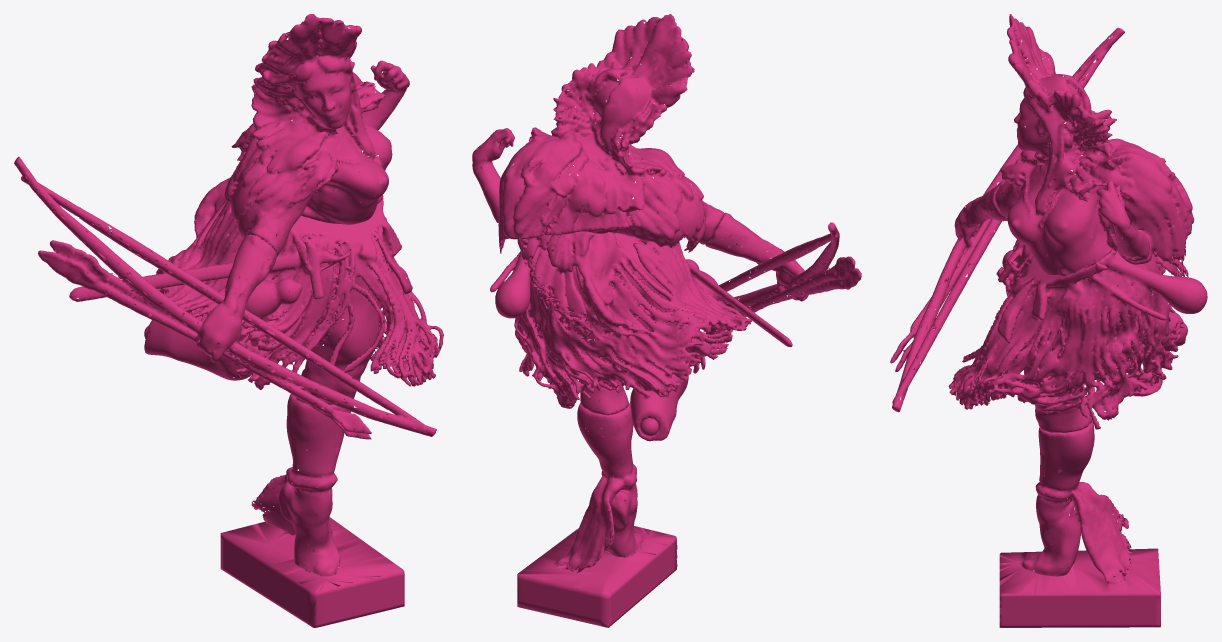
Rendered from clara-camarao.glb.
3 renders of one model, left to right at view 1: azimuth 30°, elevation 25°; view 2: azimuth 150°, elevation 25°; view 3: azimuth 270°, elevation 25°, orthographic. The views are drawn at different scales.
Parts seen in each view (by area): view 1: saia, tronco, pe-clara, mao-esquerda, braco-direito; view 2: saia, tronco, pe-clara, mao-esquerda, braco-direito; view 3: saia, tronco, pe-clara, mao-esquerda, braco-direito.
Boxes of the visible parts, left/top/right/bottom form: saia: left=69, top=147, right=443, bottom=404; tronco: left=224, top=14, right=392, bottom=256; pe-clara: left=220, top=394, right=404, bottom=627; mao-esquerda: left=14, top=156, right=436, bottom=439; braco-direito: left=362, top=60, right=409, bottom=130; saia: left=490, top=231, right=792, bottom=441; tronco: left=498, top=14, right=723, bottom=253; pe-clara: left=517, top=403, right=677, bottom=627; mao-esquerda: left=705, top=212, right=861, bottom=316; braco-direito: left=472, top=128, right=514, bottom=222; saia: left=948, top=199, right=1207, bottom=432; tronco: left=995, top=14, right=1194, bottom=276; pe-clara: left=999, top=420, right=1160, bottom=627; mao-esquerda: left=890, top=27, right=1124, bottom=412; braco-direito: left=1096, top=180, right=1149, bottom=261.
Bounding box in the file's own units: 0.183 × 0.2689 × 0.1349.
